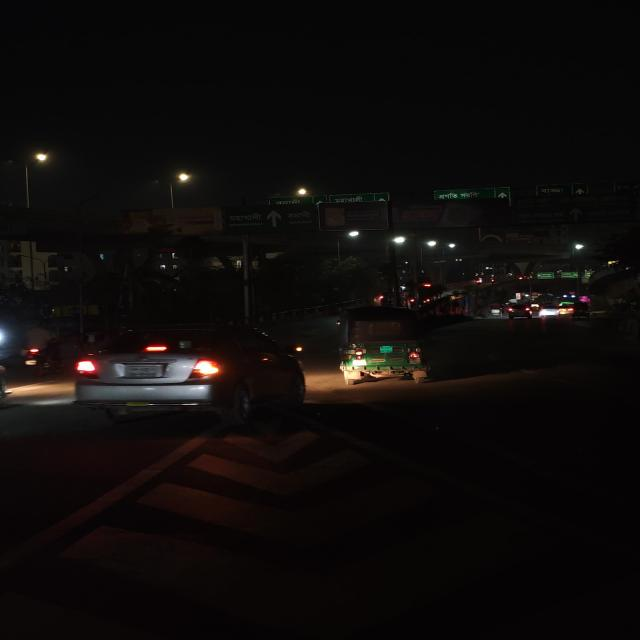car: (73, 321, 307, 434), (506, 302, 536, 321), (538, 302, 558, 319)
cng: (330, 303, 430, 388), (572, 300, 592, 320)
motorcycle: (21, 320, 65, 378), (488, 275, 497, 285)
rickshaw: (488, 302, 503, 320)
